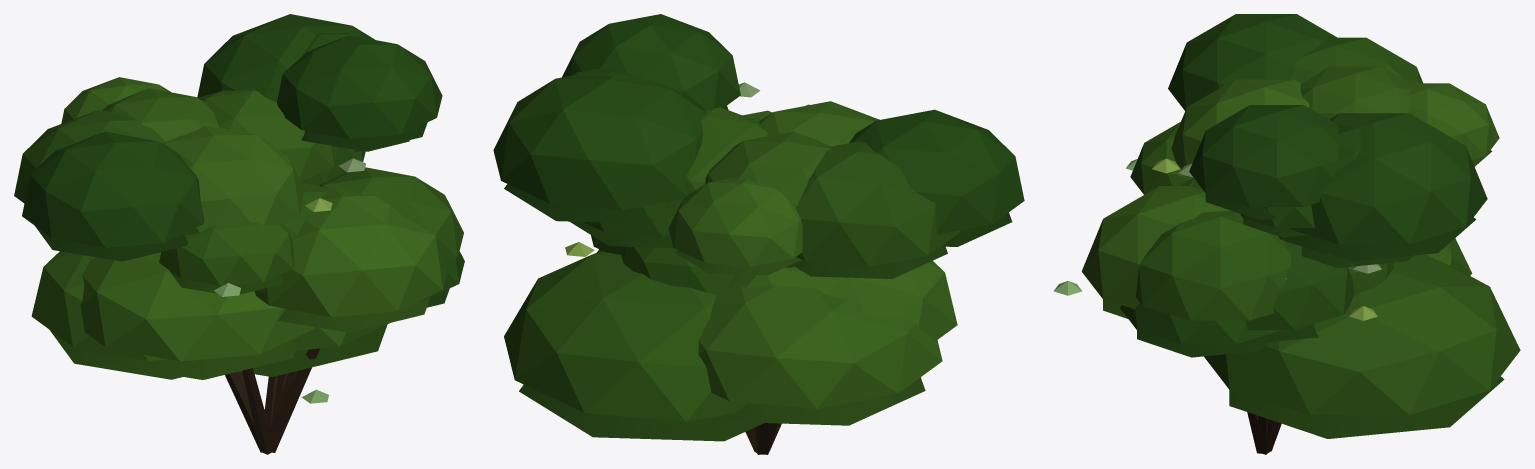
Rendered from ground_shrub_flower_1.glb.
The picture shows the model from 3 angles, left to right: view 1: azimuth 30°, elevation 25°; view 2: azimuth 150°, elevation 25°; view 3: azimuth 270°, elevation 25°; orthographic projection. The views are drawn at different scales.
Parts seen in each view (by area): view 1: leaf, wood; view 2: leaf, wood; view 3: leaf, wood.
Part boxes in pixels (x1,y1,x2,y2): leaf: [14, 14, 464, 403]; wood: [225, 348, 320, 454]; leaf: [493, 14, 1024, 441]; wood: [745, 423, 781, 454]; leaf: [1054, 14, 1520, 438]; wood: [1247, 412, 1281, 454].
Bounding box in the file's own units: 1.98 × 1.75 × 1.91.
